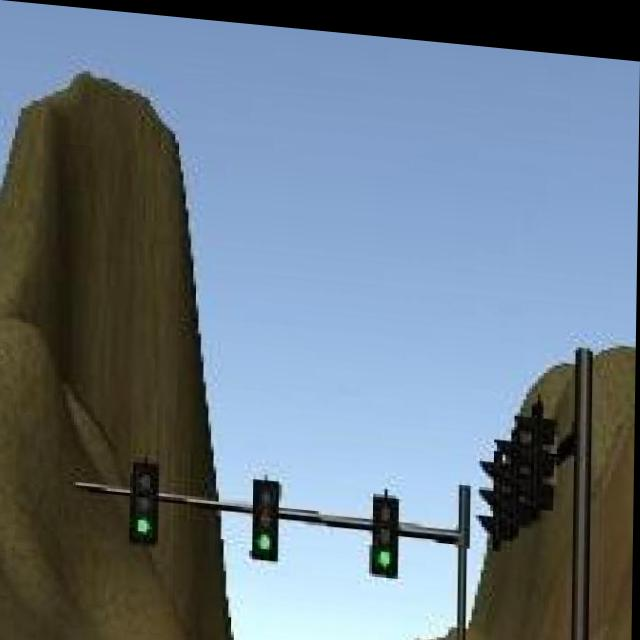green light: (131, 459, 164, 542), (251, 474, 284, 554), (374, 489, 401, 568)
